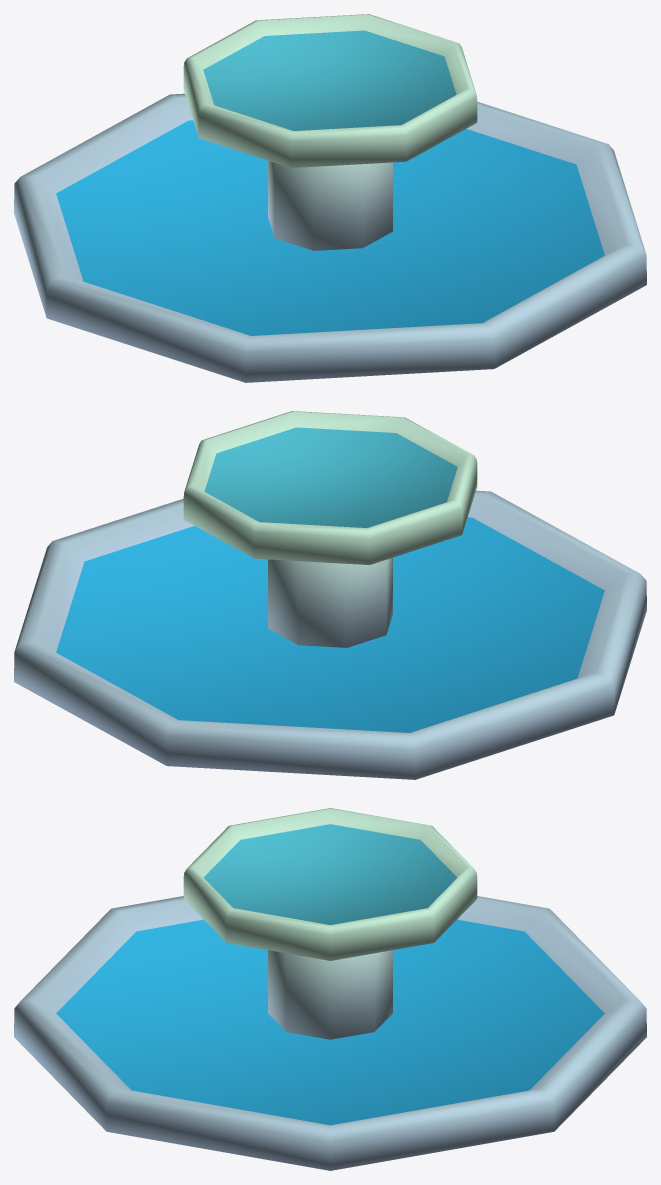
Rendered from fountain.fbx.
The picture shows the model from 3 angles, top to bottom: view 1: azimuth 30°, elevation 25°; view 2: azimuth 150°, elevation 25°; view 3: azimuth 270°, elevation 25°; orthographic projection. The views are drawn at different scales.
Parts seen in each view (by area): view 1: Cylinder.008; view 2: Cylinder.008; view 3: Cylinder.008.
Part boxes in pixels (left/top/right/bottom): Cylinder.008: left=14, top=14, right=646, bottom=382; Cylinder.008: left=14, top=411, right=646, bottom=779; Cylinder.008: left=14, top=808, right=646, bottom=1170.
Size of the model in its own units: 2530 by 750 by 2530.
